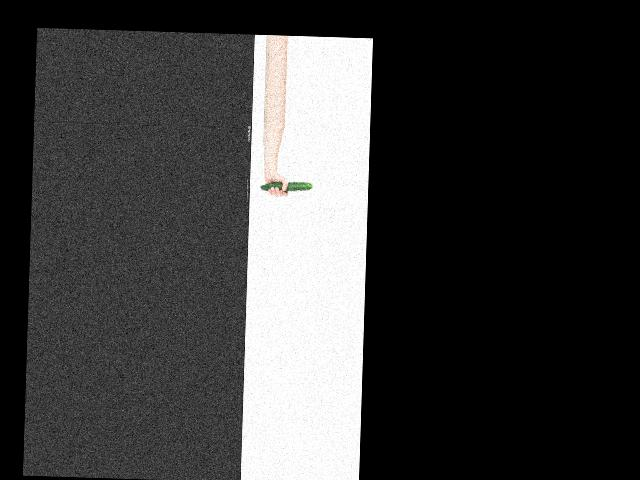cucumber: (259, 180, 312, 193)
